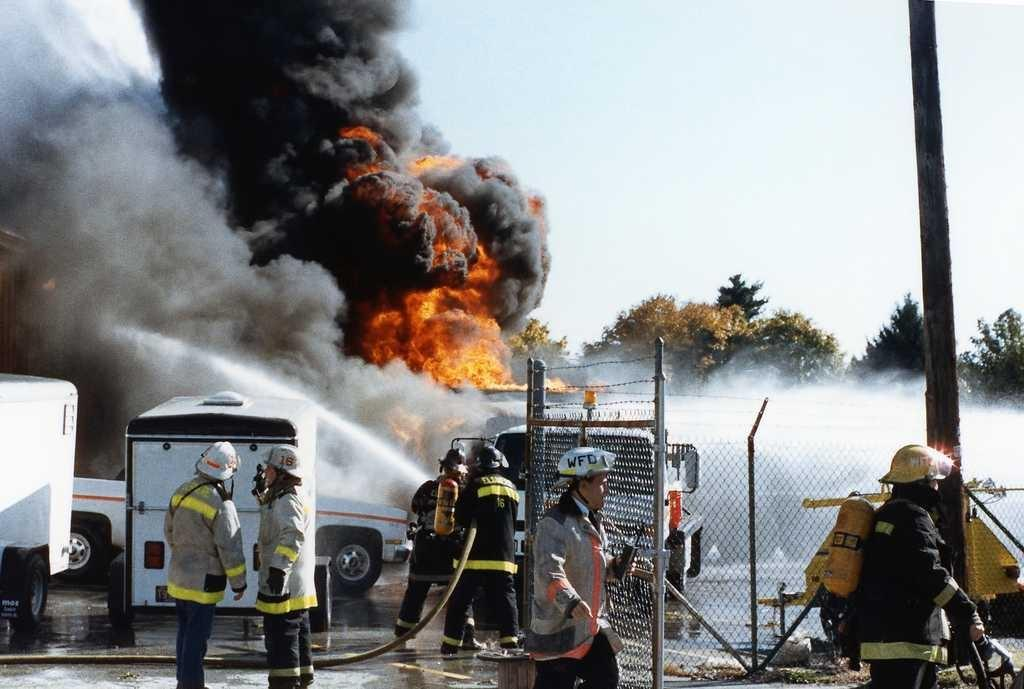fire: (408, 300, 487, 375)
smoke: (60, 165, 200, 327), (175, 17, 285, 122)
